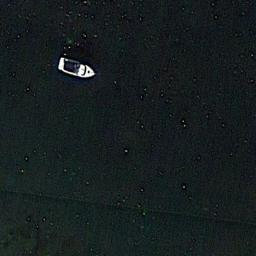boat: (57, 56, 96, 80)
